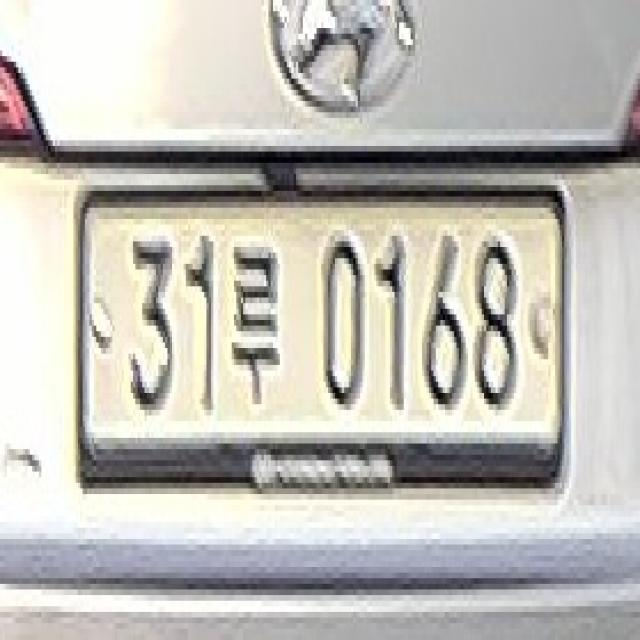0: (319, 230, 365, 404)
1: (372, 230, 408, 416), (186, 230, 216, 421)
3: (126, 230, 179, 416)
6: (420, 224, 466, 410)
8: (468, 230, 518, 410)
license_plate: (73, 180, 569, 488)
lu: (229, 247, 280, 415)
